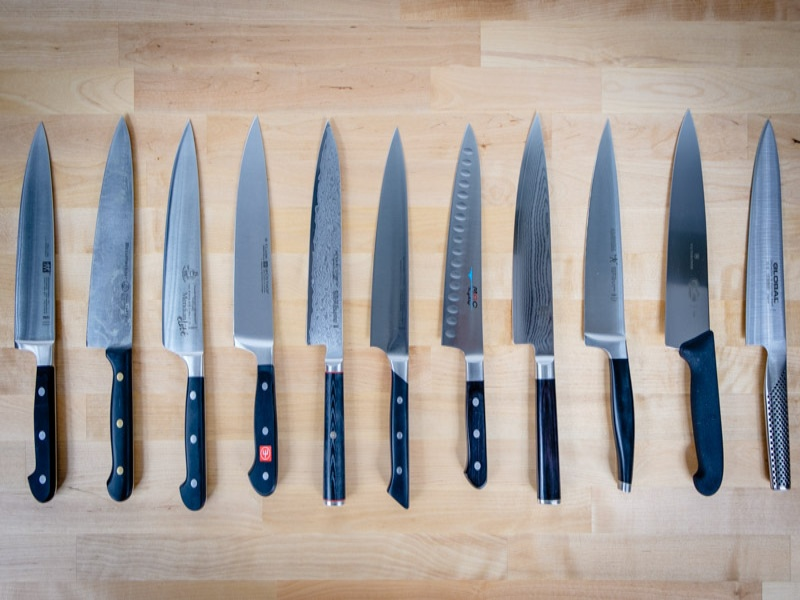knife: (664, 109, 725, 497), (85, 115, 135, 503), (583, 119, 635, 491), (513, 109, 561, 506), (162, 118, 205, 510), (746, 118, 791, 492), (441, 123, 486, 492), (235, 116, 278, 497), (14, 122, 56, 503), (306, 119, 347, 505), (369, 127, 410, 507)
